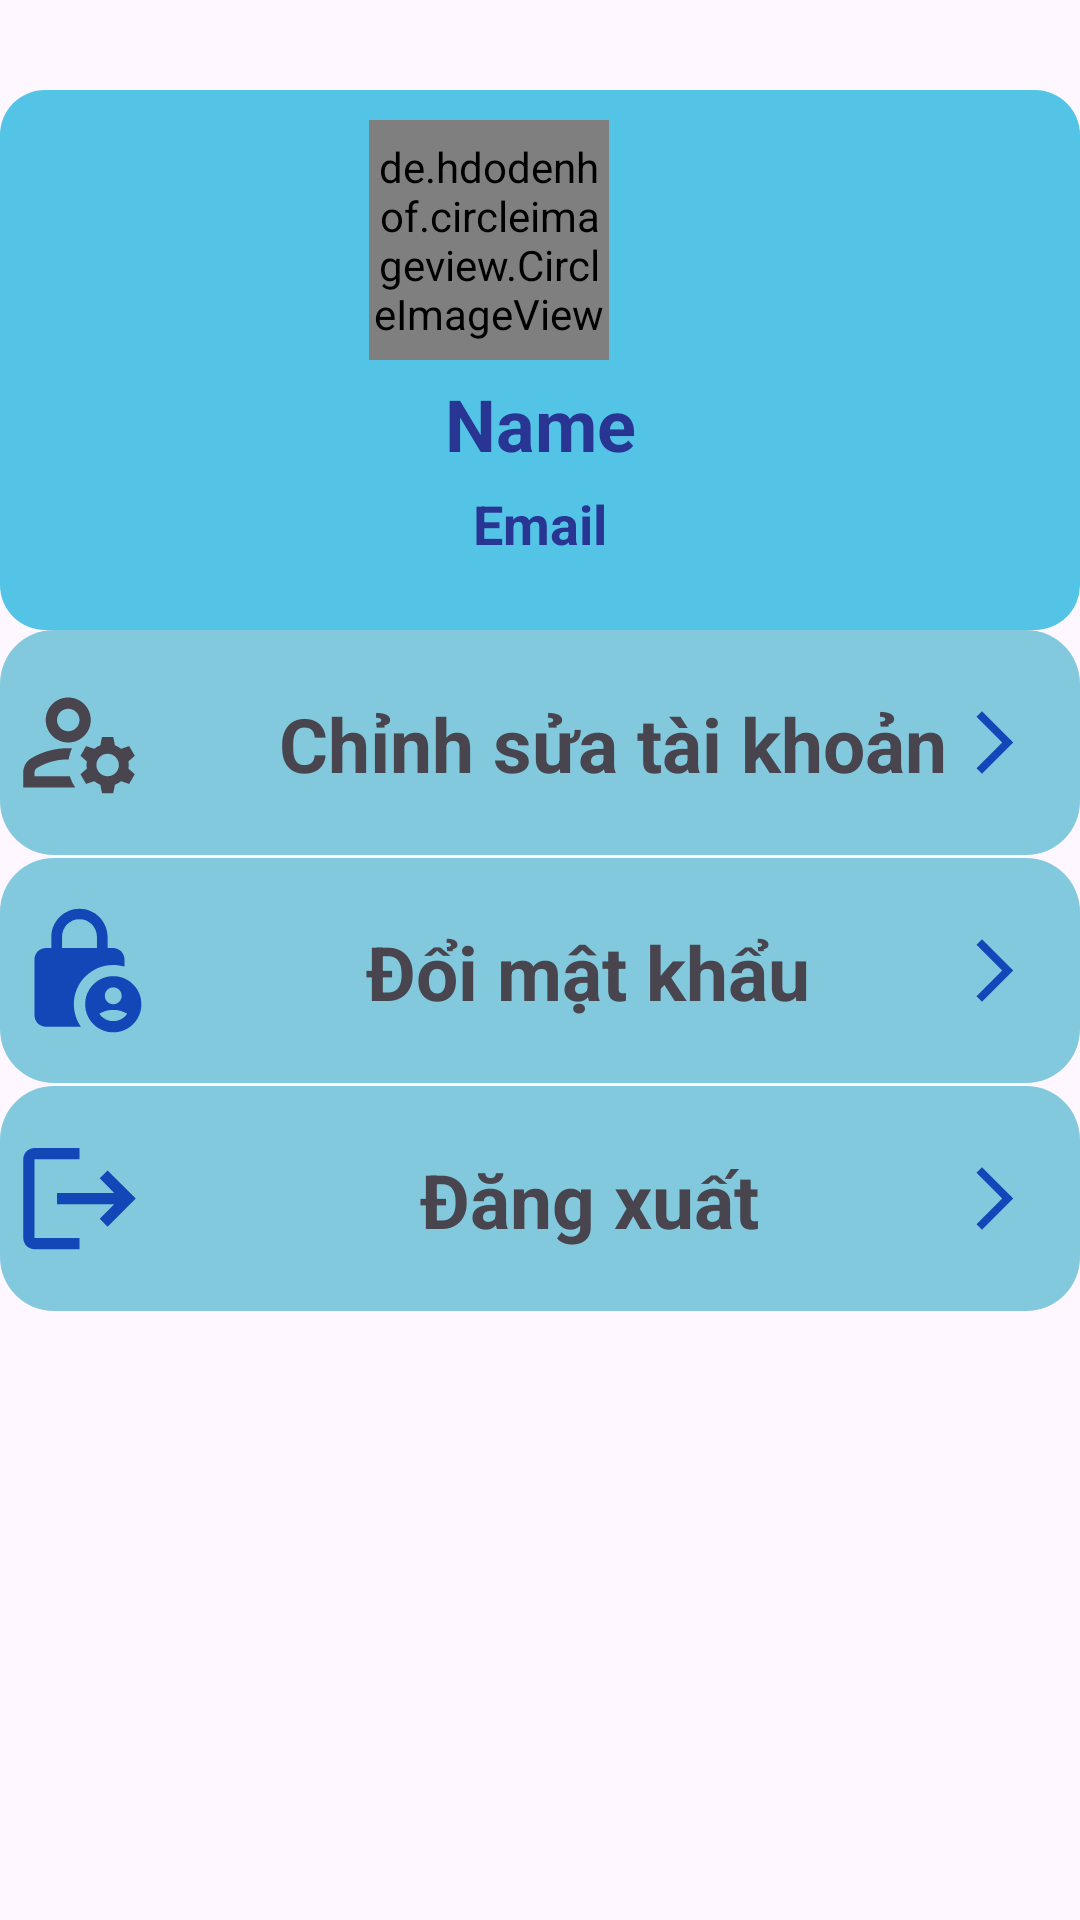

Locate icon controls on the screen. Image size 1080px×1920px, boxes as (x1, y1, x2, y2).
editprofile: (23, 697, 135, 794)
forward: (976, 711, 1013, 774), (976, 939, 1013, 1002), (976, 1167, 1013, 1230)
lock person: (34, 908, 142, 1033)
